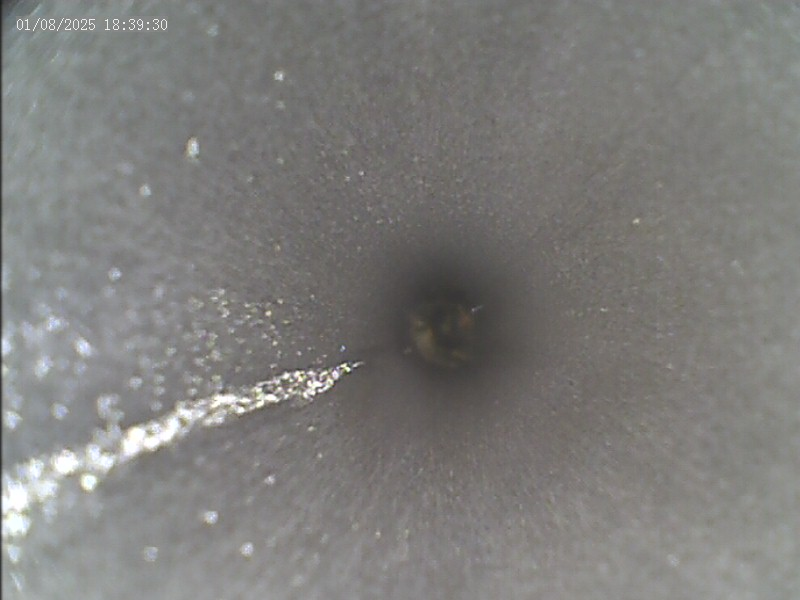defective_area: (1, 66, 458, 587)
